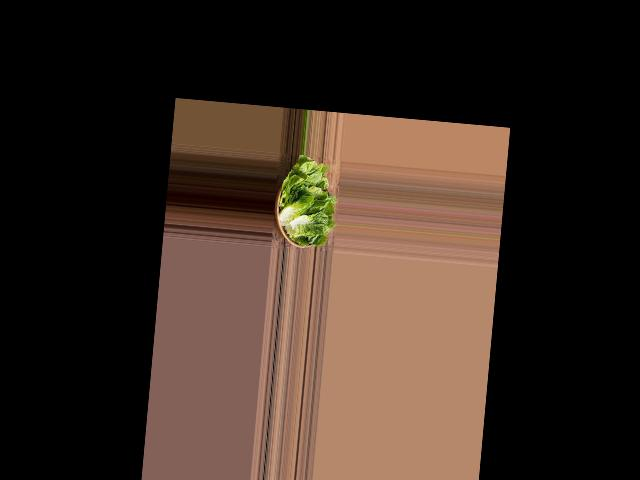lettuce: (271, 154, 338, 253)
